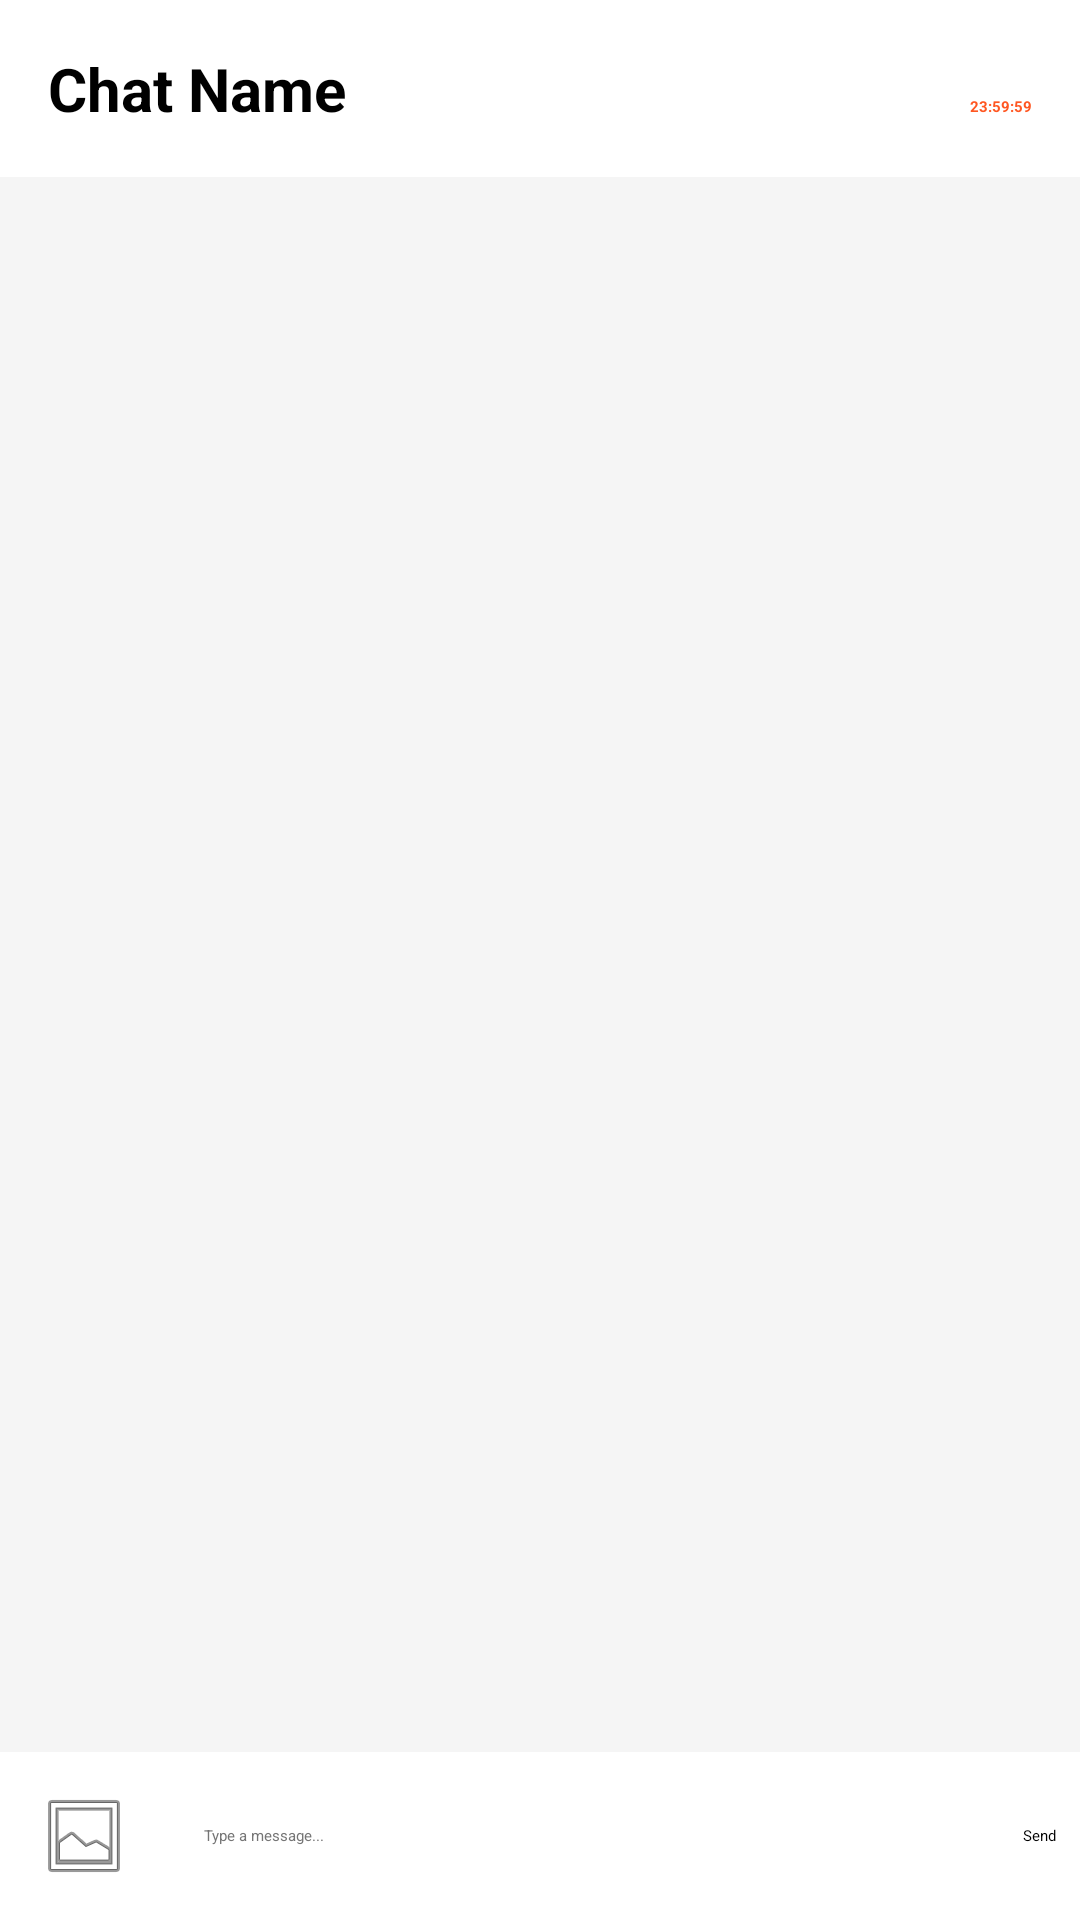

Point at icon controls on the screen. Image size 1080 × 1920, points as [x,y].
Attach Image: [84,1836]
